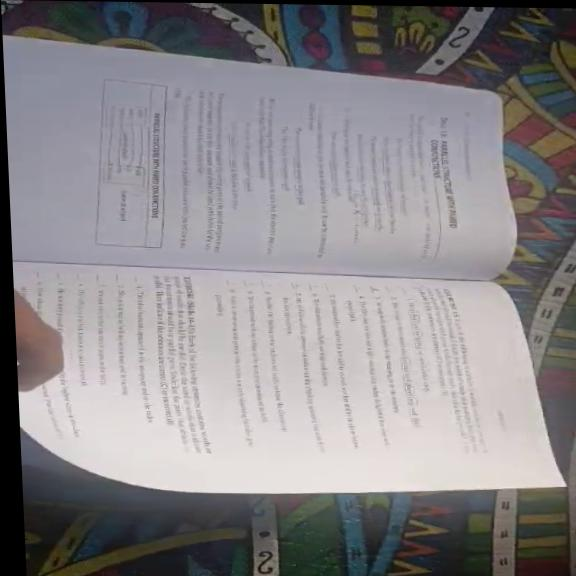Kertas: (4, 87, 506, 274), (64, 264, 504, 473)
